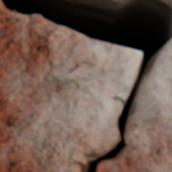broken_brick: (0, 0, 141, 171), (96, 39, 171, 171)
crack: (1, 0, 171, 171)
